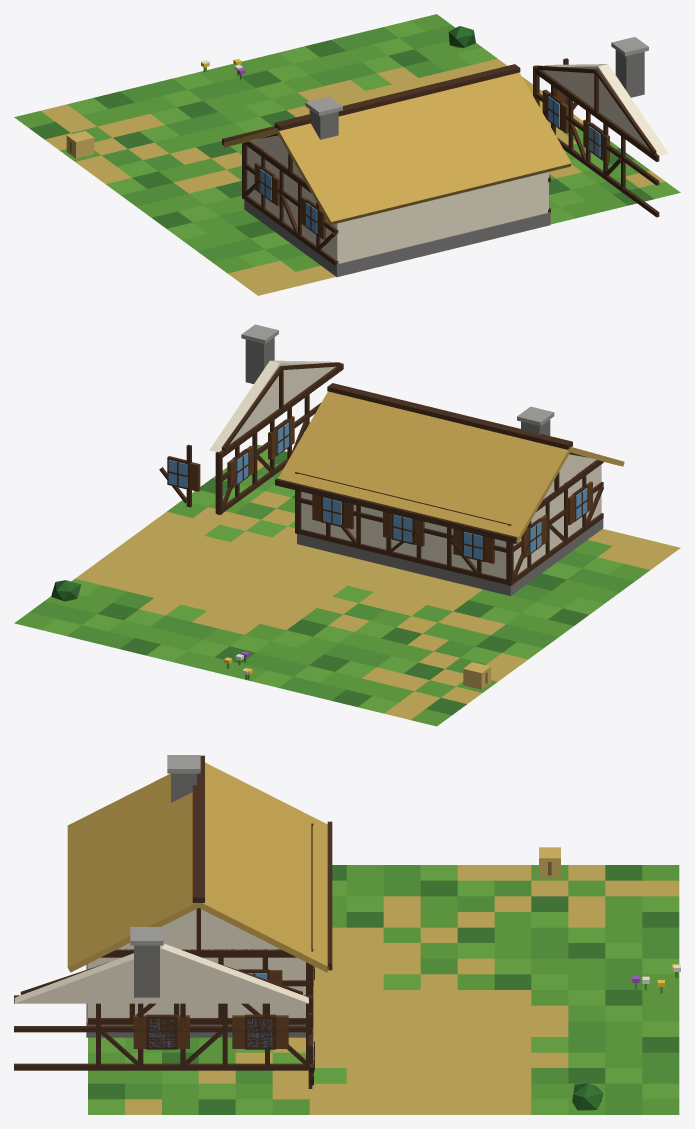
Rendered from chunk_9_9.glb.
3 renders of one model, top to bottom at view 1: azimuth 30°, elevation 25°; view 2: azimuth 150°, elevation 25°; view 3: azimuth 270°, elevation 25°, orthographic. The views are drawn at different scales.
Visible parts, largest first — view 1: chunk_9_9; view 2: chunk_9_9; view 3: chunk_9_9.
Part boxes in pixels (left/top/right/bottom): chunk_9_9: left=14, top=14, right=680, bottom=295; chunk_9_9: left=14, top=324, right=680, bottom=726; chunk_9_9: left=14, top=755, right=680, bottom=1114.
Size of the model in its own units: 16.22 by 5.05 by 18.04.
